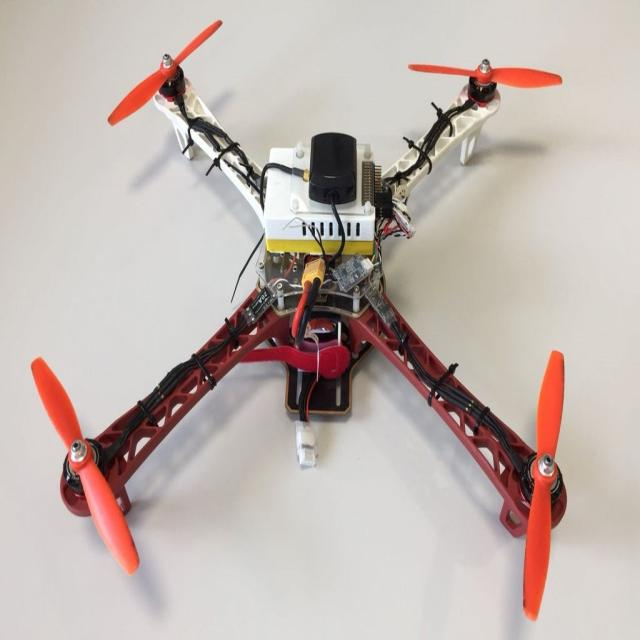drone: (21, 7, 618, 630)
